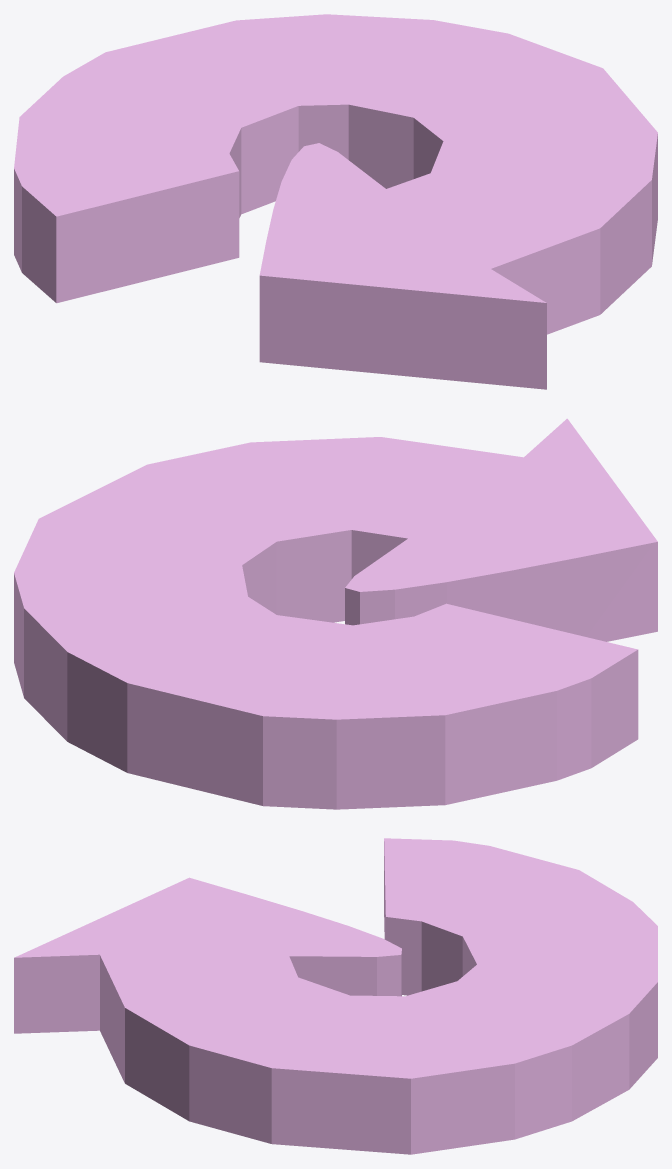
The model's file is rotation_item_2.glb.
The picture shows the model from 3 angles, top to bottom: view 1: azimuth 30°, elevation 25°; view 2: azimuth 150°, elevation 25°; view 3: azimuth 270°, elevation 25°; orthographic projection. The views are drawn at different scales.
Visible parts, largest first — view 1: Line001; view 2: Line001; view 3: Line001.
Boxes of the visible parts, box(x1,y1,x2,y2) form: Line001: box(14, 14, 657, 389); Line001: box(14, 418, 657, 809); Line001: box(14, 838, 657, 1154).
Bounding box in the file's own units: 0.1278 × 0.0188 × 0.1447.
